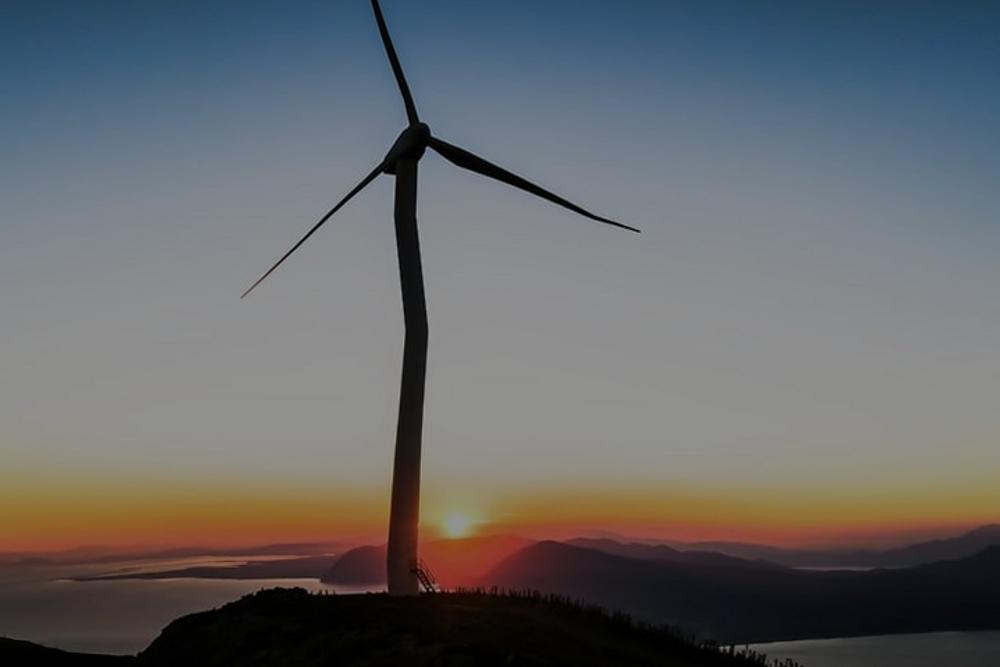working: (323, 37, 485, 306)
